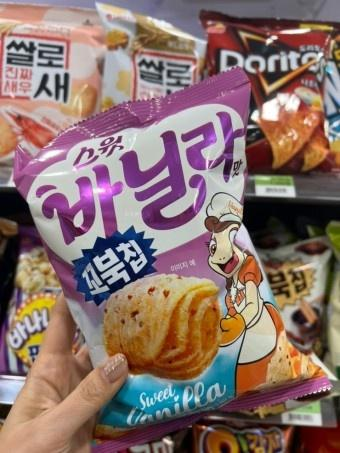snack: (14, 65, 335, 453)
